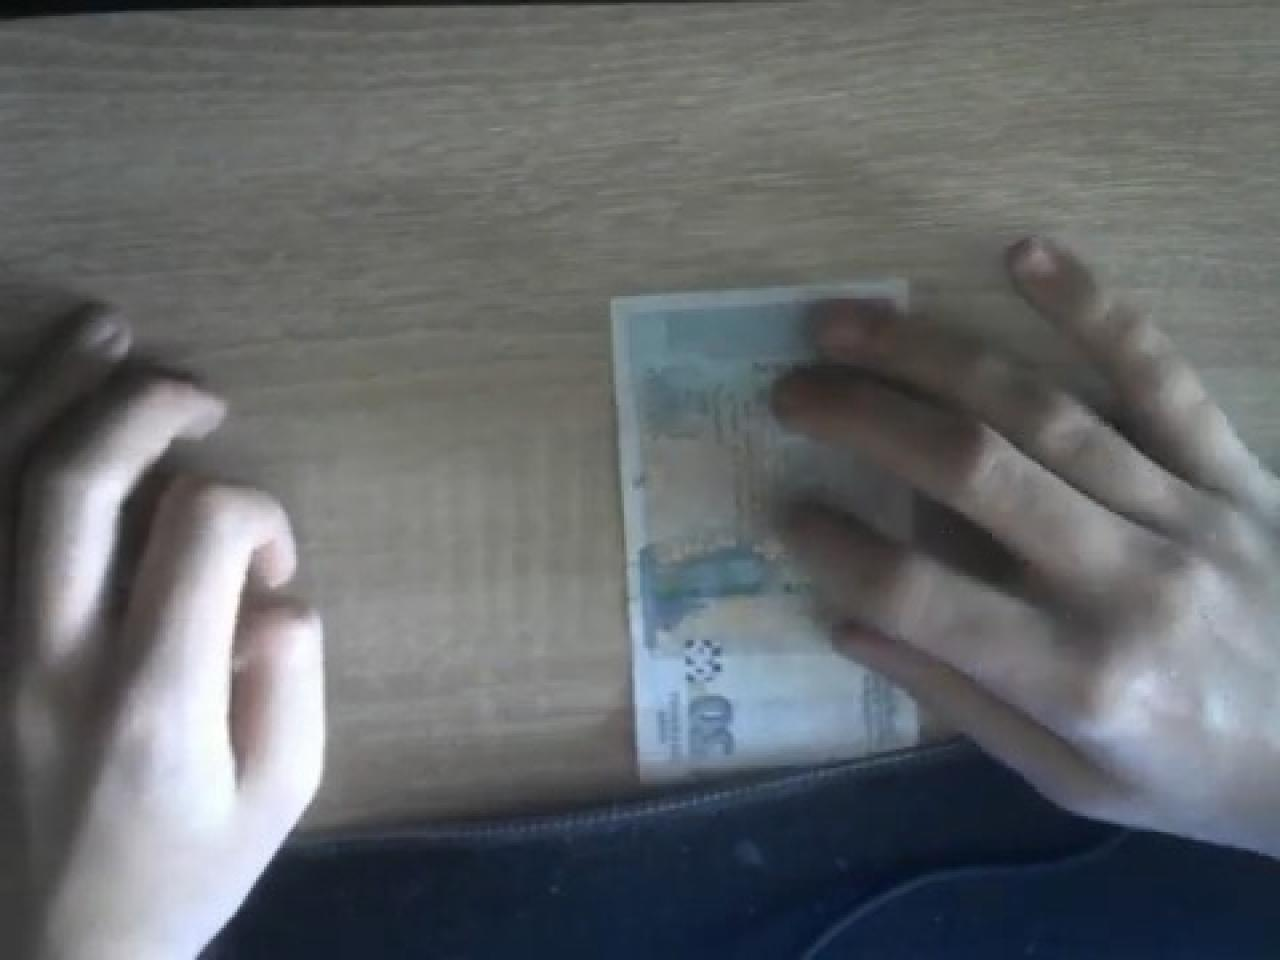20leva: (606, 277, 935, 790)
